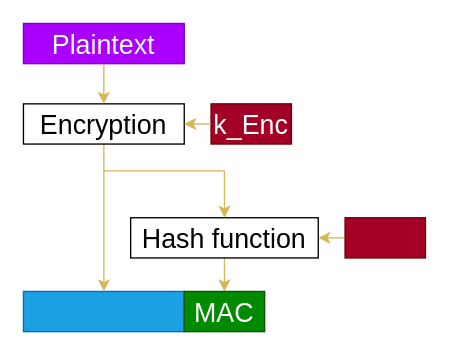
This 449x355 diagram has some shape labels left out. The centre of each missing label's shape, as x and y in pixels:
"Ciphertext" goes at [103,311].
"k_Mac" goes at [384,237].
